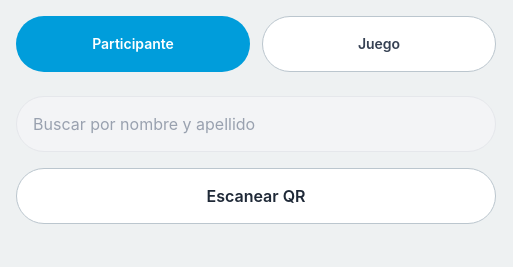
Test: LookupPage › shows the error when the code is not found
The image size is (513, 267).
Click the button "Juego": {"x": 379, "y": 44} [262, 16, 496, 72]
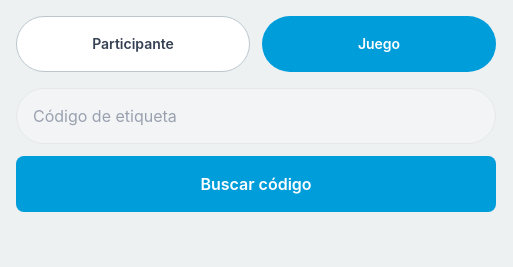
In the search field named "Buscar juego por código": {"x": 256, "y": 116} [16, 88, 496, 144], type "999"
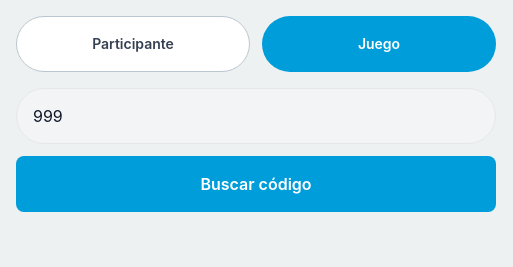
Click the button "Buscar código": {"x": 256, "y": 184} [16, 156, 496, 212]
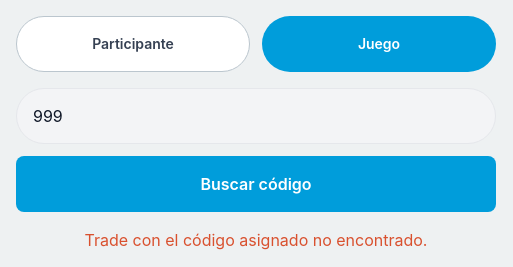
Now the text "Trade con el código asignado no encontrado." is shown, box [84, 230, 428, 250]
